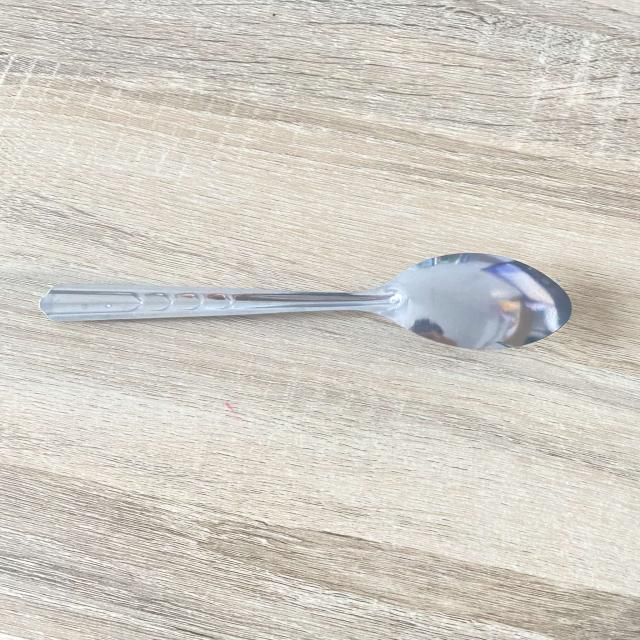spoon: (32, 245, 580, 366)
